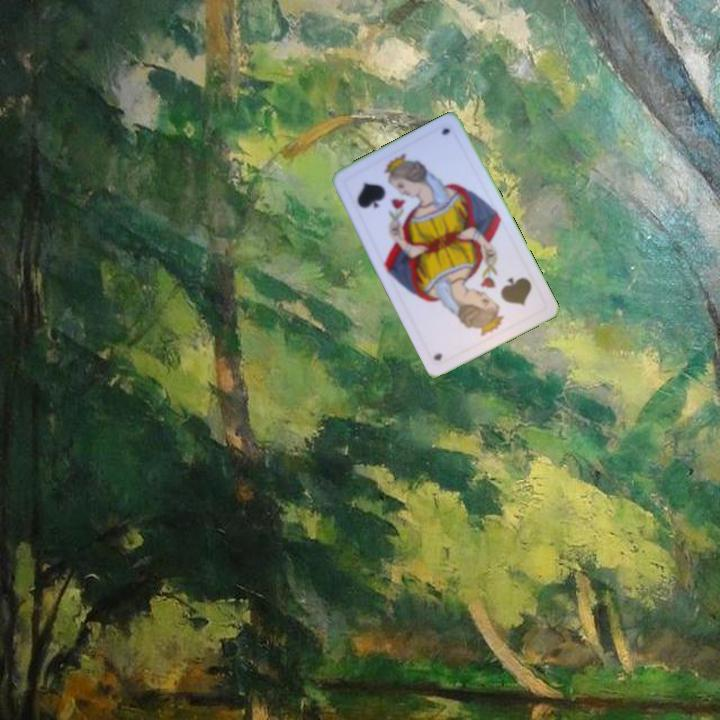s_q.png: (339, 150, 423, 230), (464, 258, 548, 338)
